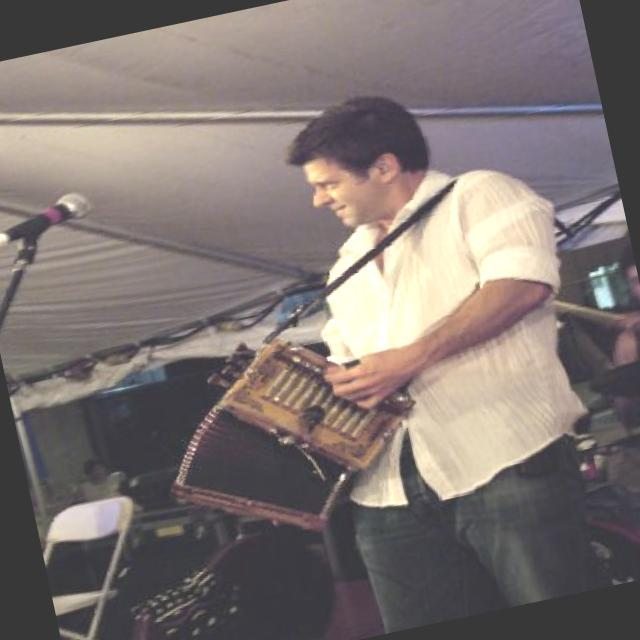Person: (138, 49, 617, 640)
